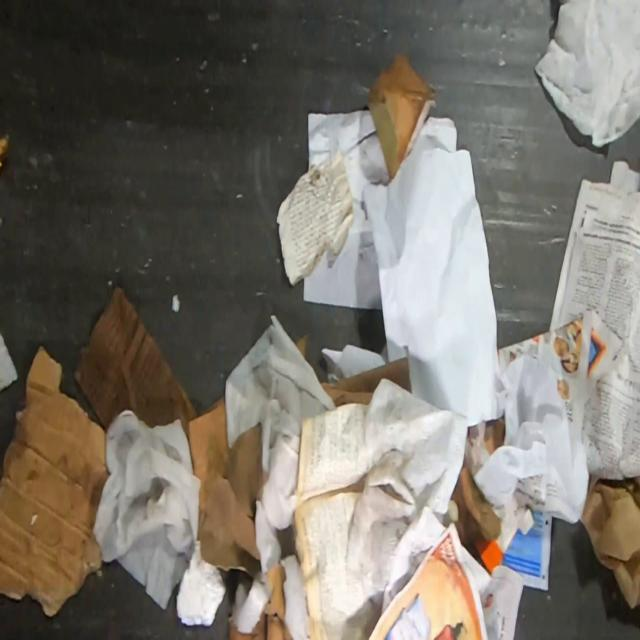cardboard: (186, 394, 311, 640), (0, 343, 111, 617), (72, 285, 200, 436), (366, 50, 437, 182), (320, 357, 410, 407), (295, 332, 310, 361)
soft_plastic: (533, 0, 640, 149)
